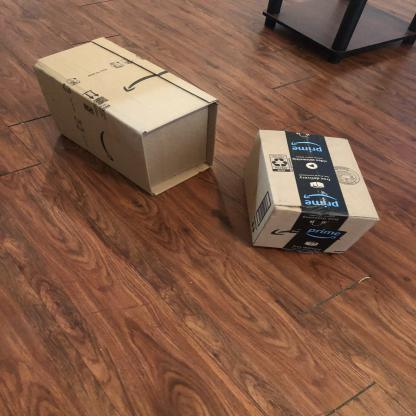package: (27, 34, 223, 203), (237, 127, 383, 261)
